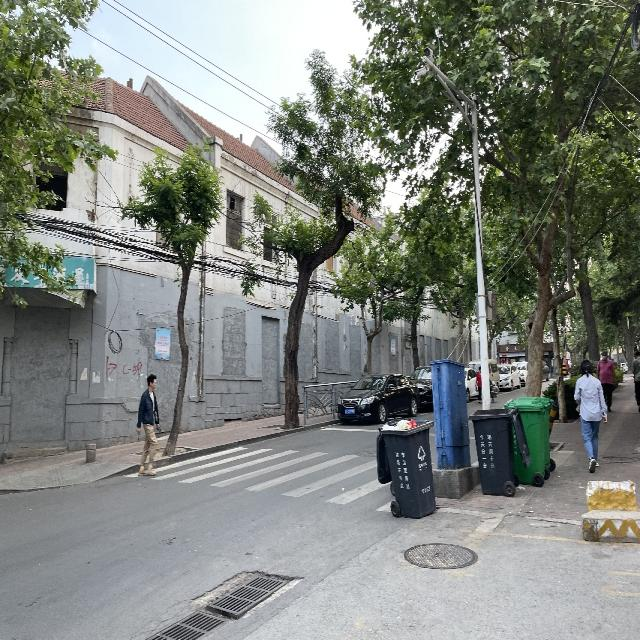garbage_bin: (468, 405, 531, 494), (503, 396, 552, 482)
overflow: (375, 418, 434, 518)
